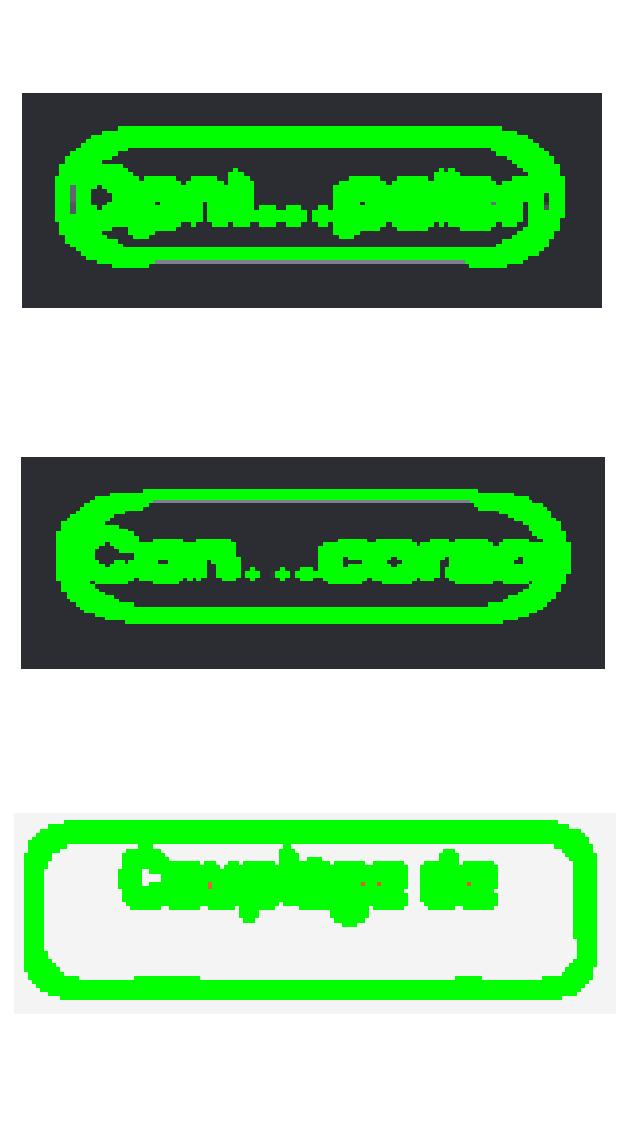WS1: (28, 468, 145, 659), (475, 468, 587, 628), (28, 118, 129, 295), (494, 118, 600, 275), (94, 799, 188, 866), (255, 810, 346, 876)
